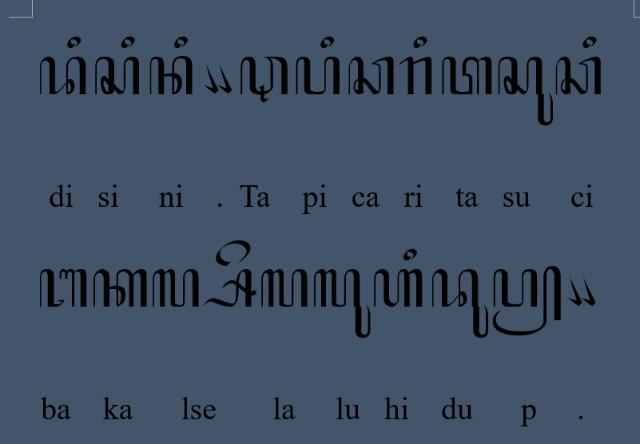-p: (491, 264, 563, 338)
T: (238, 55, 290, 103)
_s: (200, 268, 258, 310)
b: (38, 266, 88, 310)
c: (346, 54, 396, 98), (555, 53, 603, 96)
d: (38, 55, 88, 97)
du: (429, 266, 489, 340)
e: (214, 238, 252, 266)
h: (373, 268, 423, 310)
i: (402, 246, 421, 264), (412, 34, 430, 50), (581, 34, 599, 50), (318, 35, 336, 50), (119, 35, 135, 50), (174, 35, 188, 50), (66, 36, 82, 49)
k: (92, 267, 150, 309)
kom: (201, 62, 219, 95), (217, 60, 233, 96), (579, 275, 597, 306), (566, 275, 582, 306)
l: (259, 266, 309, 310), (151, 269, 201, 309)
lu: (313, 268, 372, 340)
n: (148, 56, 195, 96)
p: (294, 55, 342, 97)
r: (398, 56, 434, 96)
s: (92, 56, 142, 96)
su: (497, 55, 555, 127)
t: (441, 54, 493, 98)
